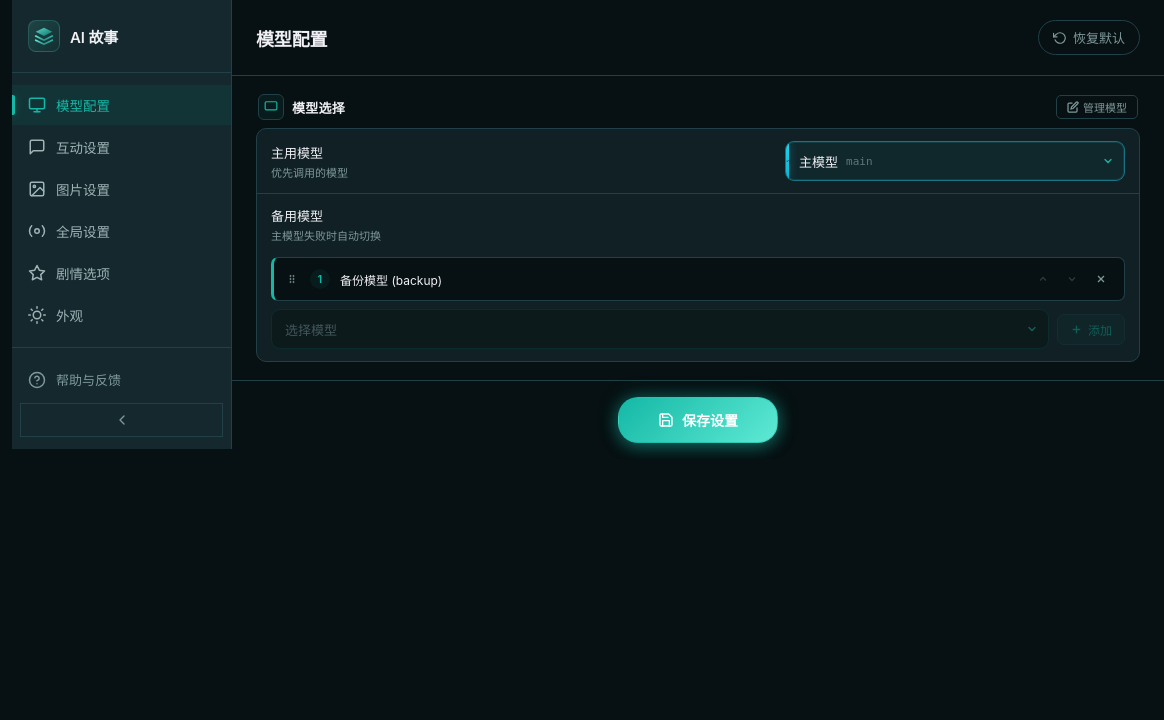
Scenario: Settings desktop shared form wiring › renders the exact bubble elasticity label in interaction settings
Step 1. Click the button with class "nav-item" showing "互动设置" → point(122, 147), box [12, 127, 231, 167]
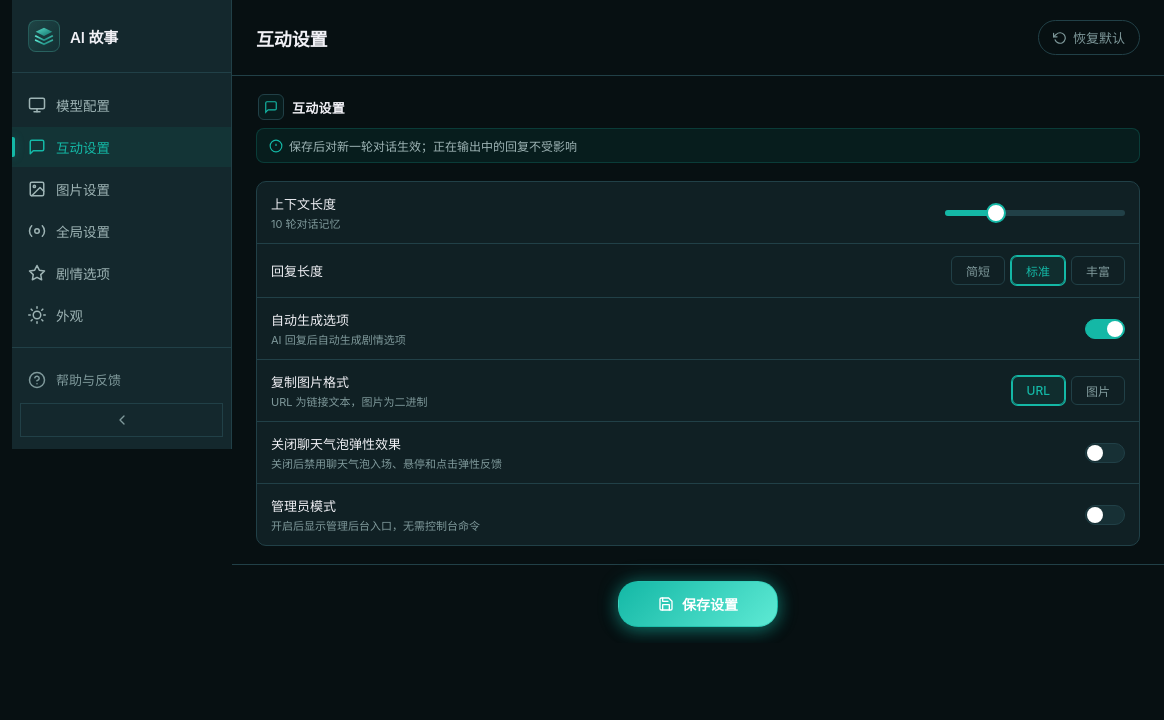
Expected: the text "关闭聊天气泡弹性效果" is shown, [271, 436, 401, 452]
